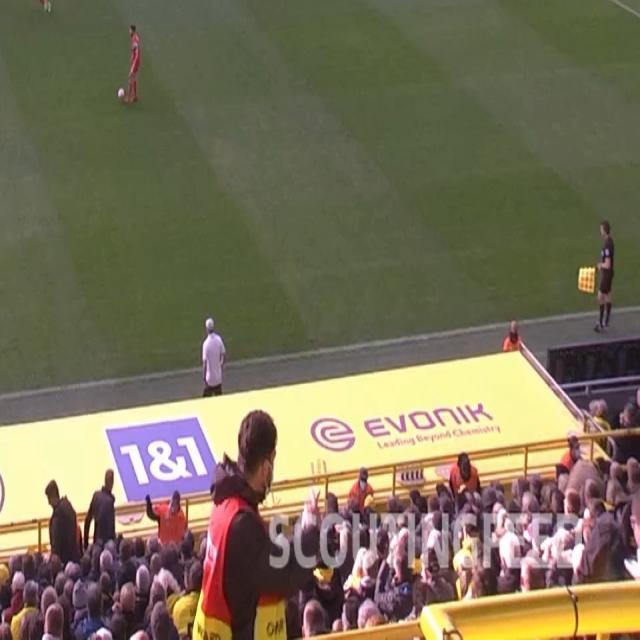ball: (117, 85, 125, 100)
